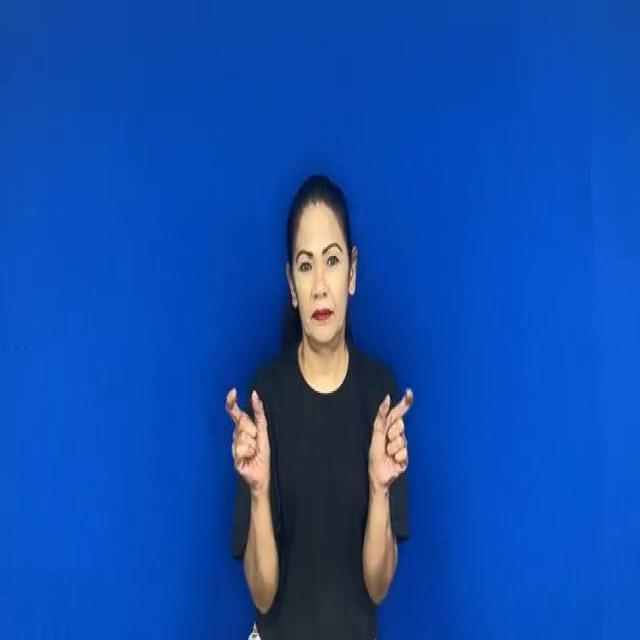crab: (355, 381, 428, 491), (213, 381, 280, 498)
